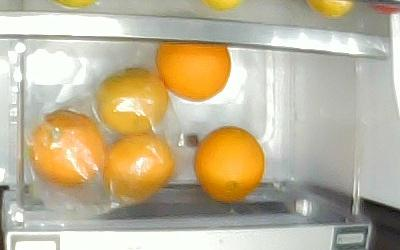orange: (193, 126, 265, 203), (155, 42, 231, 102)
orange_vinyl: (30, 110, 104, 186), (104, 133, 175, 202), (96, 67, 168, 135)
